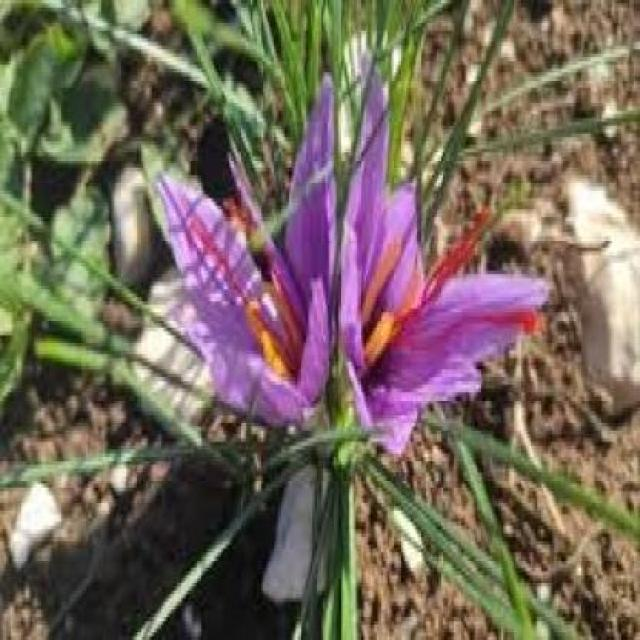saffron open: (340, 69, 547, 450), (158, 79, 335, 420)
